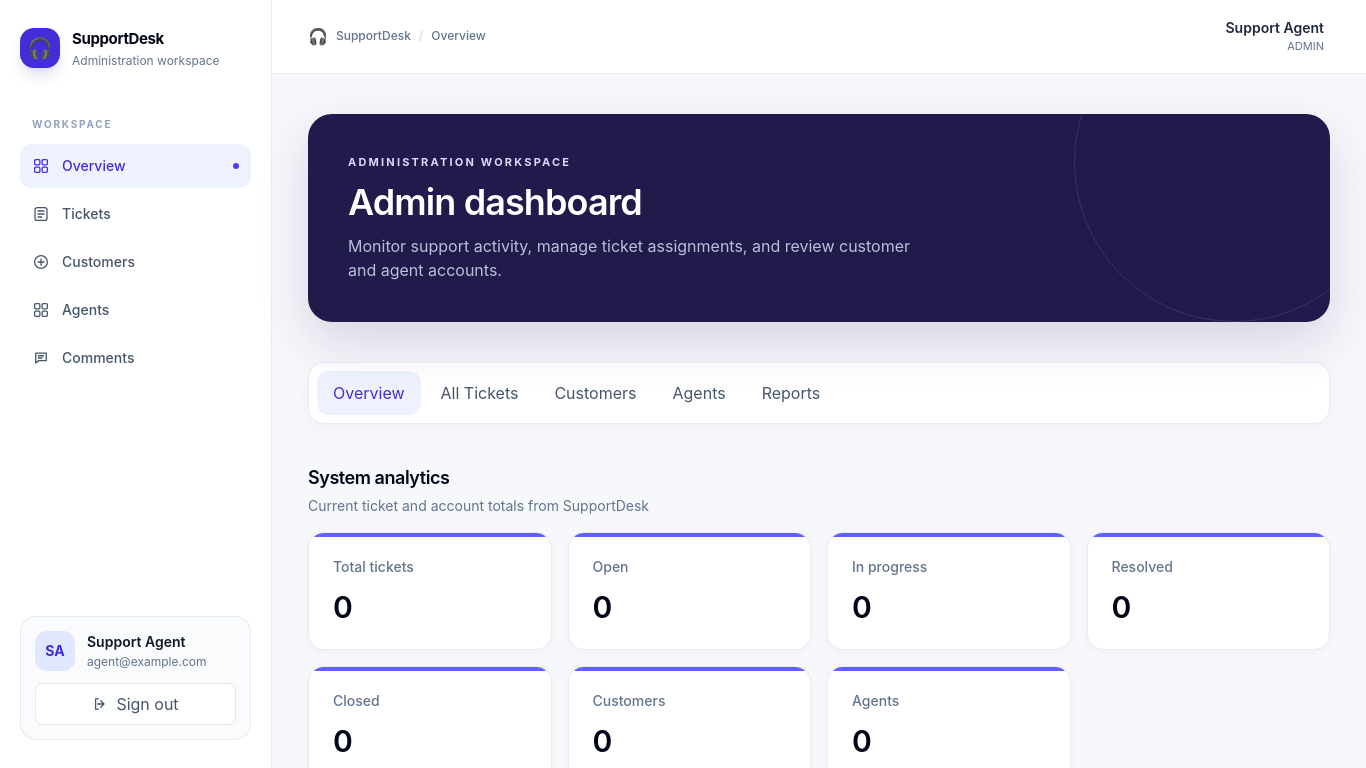
Test: SupportDesk frontend foundation › opens role-specific admin navigation from the shared application shell
Click the link "Customers" at (83,262), box [32,252,135,270]
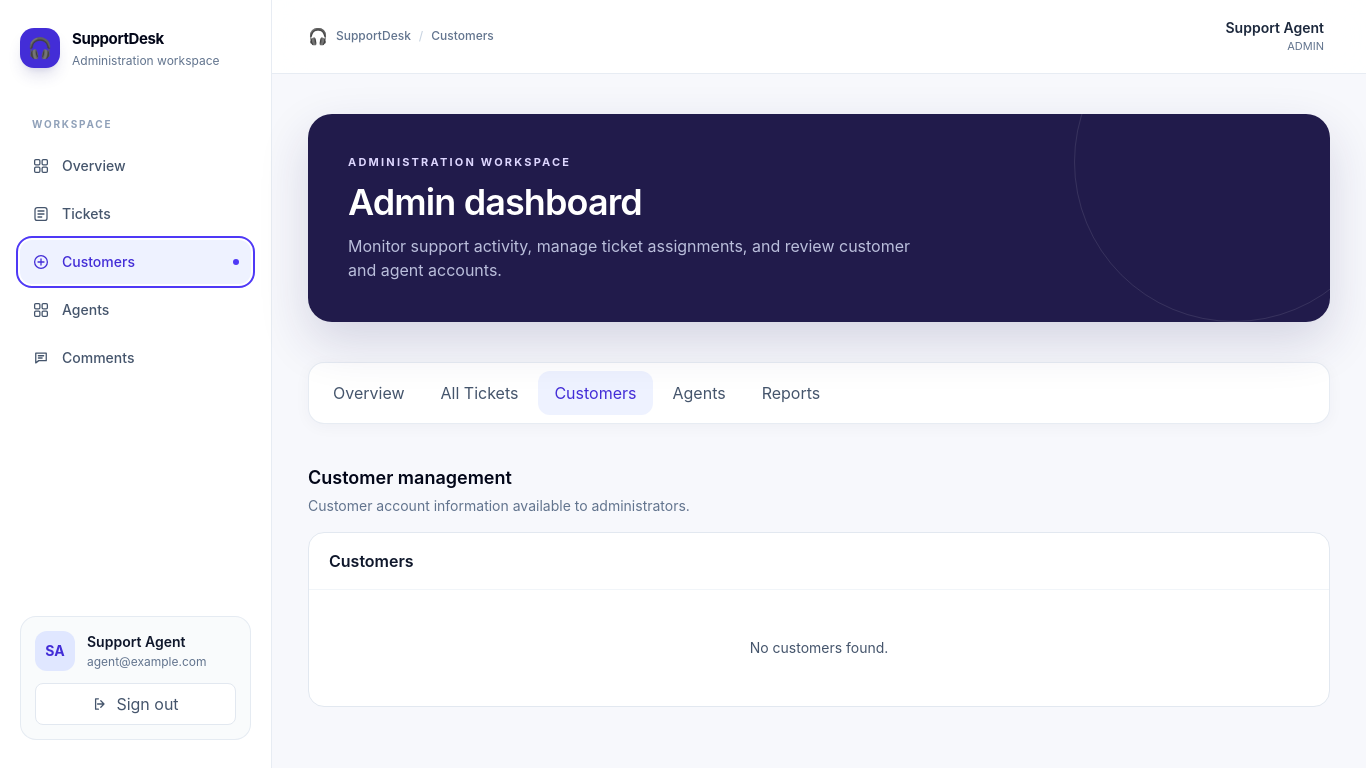
Expected: the navigation bar named "Main navigation" is shown, [20,144,251,380]
Result: the heading "Customer management" is shown at [308,467,512,488]
